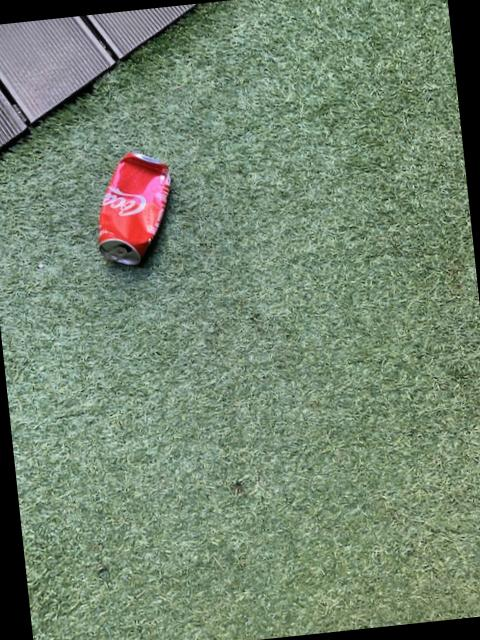metal: (0, 3, 197, 148)
